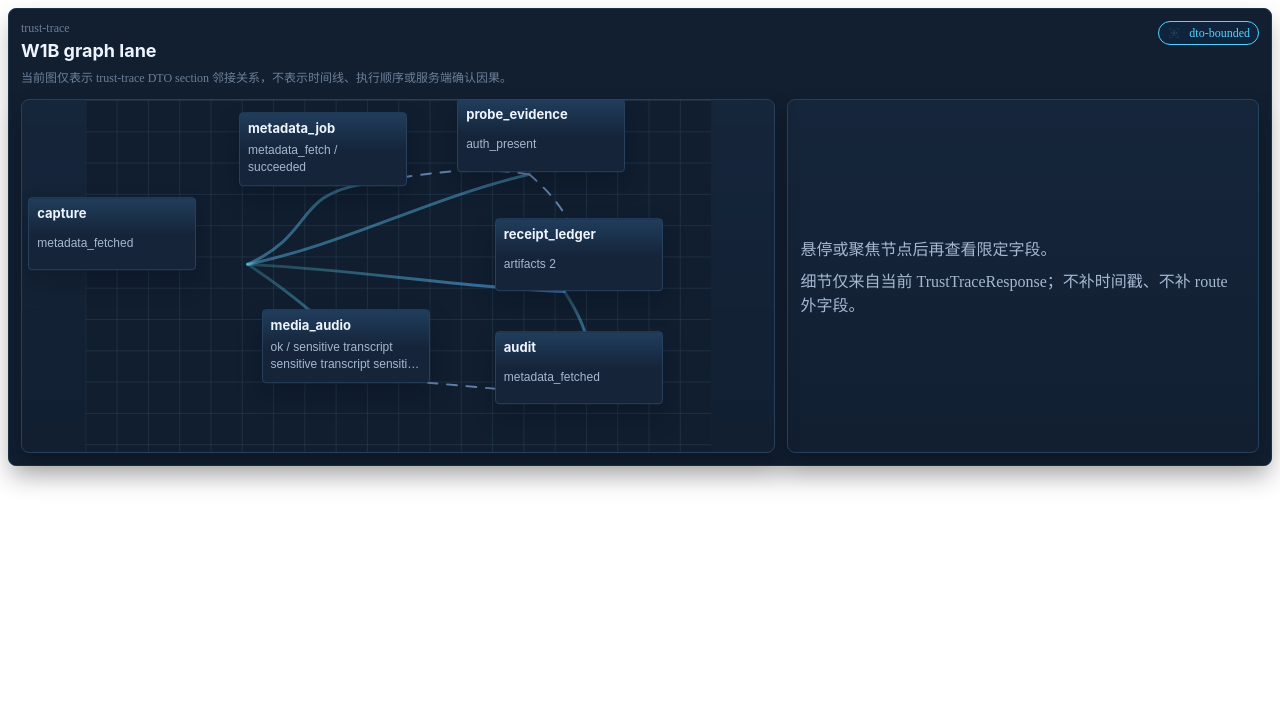
Test: GraphLane › renders only a bounded transcript preview in media audio detail
This screenshot has width=1280, height=720.
Focus the button with aria-label "section node media_audio" at (346, 346), box left=262, top=310, right=430, bottom=383
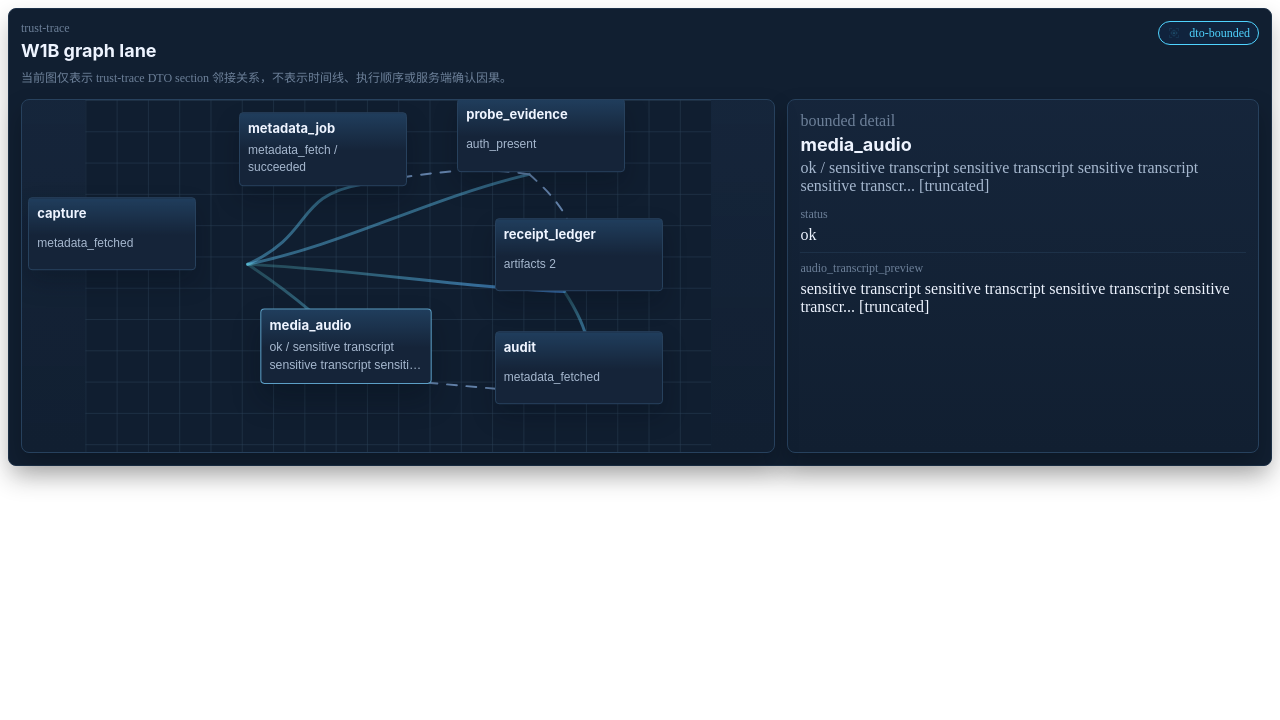
Result: the text "audio_transcript_preview" is shown at left=800, top=261, right=923, bottom=275
Result: the text "[truncated]" below "bounded detail" is shown at left=800, top=159, right=1198, bottom=194
